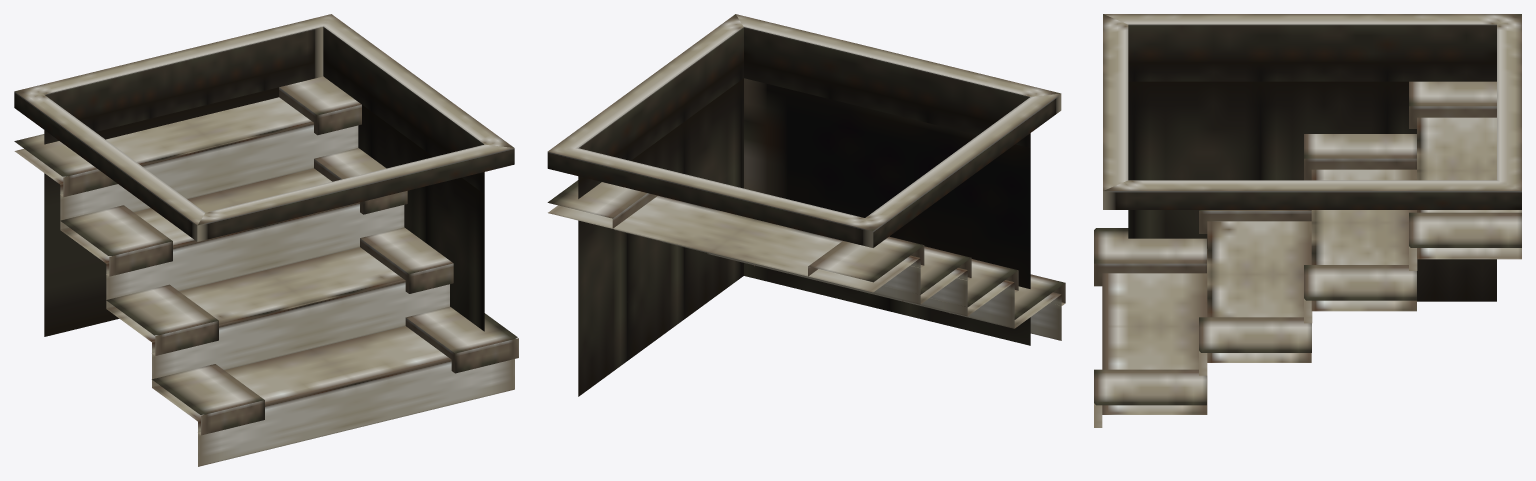
Rendered from Inside_Poly_Stairs_01_Down.obj.
3 views of the same model, side by side, from view 1: azimuth 30°, elevation 25°; view 2: azimuth 150°, elevation 25°; view 3: azimuth 270°, elevation 25° (orthographic). The views are drawn at different scales.
Visible parts, largest first — view 1: Cube.007, Cube, Cube.006; view 2: Cube, Cube.007, Cube.006; view 3: Cube, Cube.007, Cube.006.
Boxes of the visible parts, bbox=[...] form: Cube.007: bbox=[14, 97, 514, 466]; Cube: bbox=[14, 14, 514, 336]; Cube.006: bbox=[14, 76, 518, 435]; Cube: bbox=[547, 14, 1061, 396]; Cube.007: bbox=[548, 195, 1061, 340]; Cube.006: bbox=[547, 180, 1065, 319]; Cube: bbox=[1103, 14, 1521, 301]; Cube.007: bbox=[1102, 117, 1521, 414]; Cube.006: bbox=[1094, 81, 1521, 427].
Size of the model in its own units: 1 by 0.73 by 1.02.
Materials: 1 (1 with a texture image).
